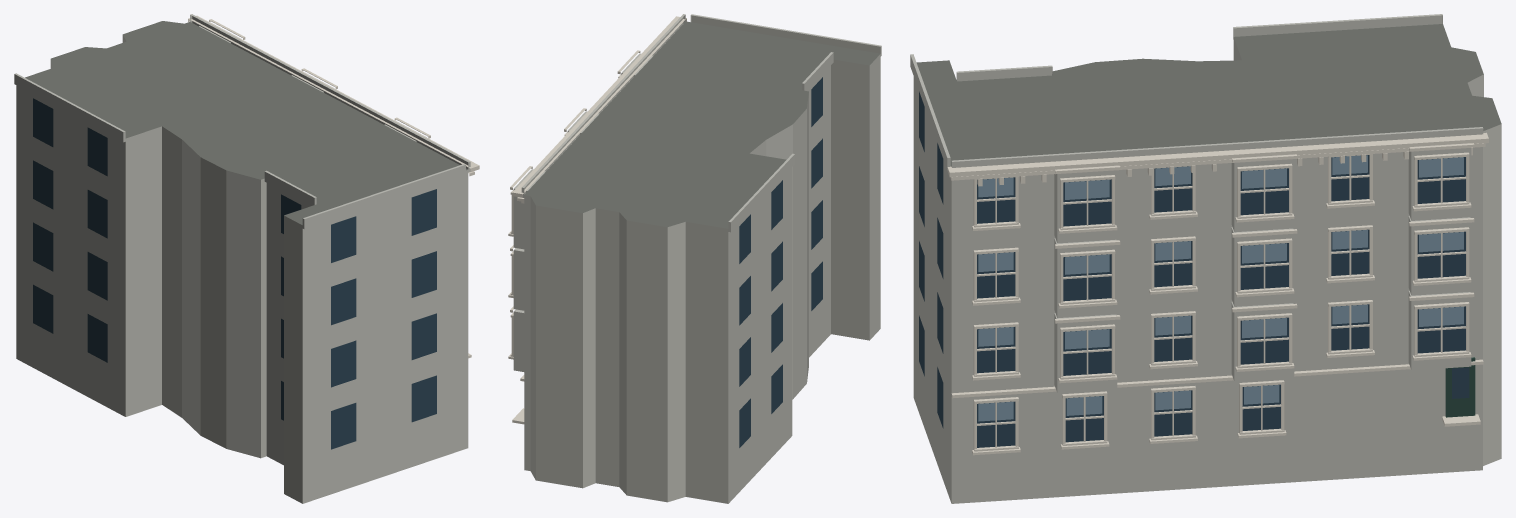
3 views of the same model, side by side, from view 1: azimuth 30°, elevation 25°; view 2: azimuth 150°, elevation 25°; view 3: azimuth 270°, elevation 25° (orthographic). The views are drawn at different scales.
Visible parts, largest first — view 1: Footprint 0 / surface 2, Footprint 0 / surface 1, Inset glazing, Facade bay volumes, Cornices and window frames; view 2: Footprint 0 / surface 2, Footprint 0 / surface 1, Facade bay volumes, Inset glazing, Cornices and window frames; view 3: Footprint 0 / surface 2, Footprint 0 / surface 1, Cornices and window frames, Inset glazing, Facade bay volumes, Sky reflection panels, Storefronts and doors.
Part boxes in pixels (x1=…): Footprint 0 / surface 2: x1=16, y1=35, x2=468, y2=503; Footprint 0 / surface 1: x1=25, y1=21, x2=467, y2=224; Inset glazing: x1=33, y1=98, x2=436, y2=449; Facade bay volumes: x1=14, y1=14, x2=470, y2=229; Cornices and window frames: x1=188, y1=15, x2=479, y2=358; Footprint 0 / surface 2: x1=524, y1=54, x2=880, y2=503; Footprint 0 / surface 1: x1=524, y1=21, x2=880, y2=228; Facade bay volumes: x1=513, y1=14, x2=881, y2=371; Inset glazing: x1=739, y1=77, x2=822, y2=447; Cornices and window frames: x1=508, y1=16, x2=686, y2=424; Footprint 0 / surface 2: x1=913, y1=37, x2=1501, y2=503; Footprint 0 / surface 1: x1=916, y1=24, x2=1501, y2=166; Cornices and window frames: x1=947, y1=132, x2=1488, y2=455; Inset glazing: x1=919, y1=91, x2=1469, y2=447; Facade bay volumes: x1=910, y1=14, x2=1483, y2=392; Sky reflection panels: x1=978, y1=155, x2=1463, y2=421; Storefronts and doors: x1=1445, y1=357, x2=1475, y2=417.
Bounding box in the file's own units: 13.42 × 14.07 × 21.95.
